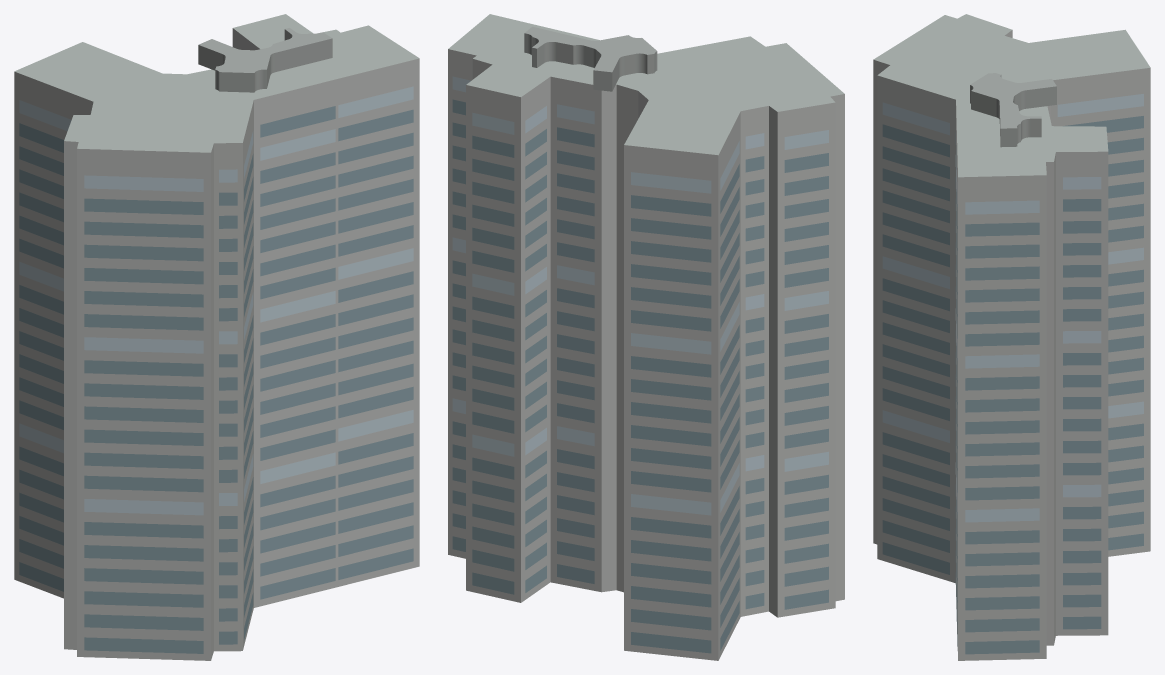
File: fallback-godeok-central-ipark-502.glb
The picture shows the model from 3 angles, left to right: view 1: azimuth 30°, elevation 25°; view 2: azimuth 150°, elevation 25°; view 3: azimuth 270°, elevation 25°; orthographic projection. The views are drawn at different scales.
Parts seen in each view (by area): view 1: fallback-godeok-central-ipark-502; view 2: fallback-godeok-central-ipark-502; view 3: fallback-godeok-central-ipark-502.
Boxes of the visible parts, x1,y1,x2,y2 form: fallback-godeok-central-ipark-502: [14, 14, 419, 660]; fallback-godeok-central-ipark-502: [448, 14, 844, 660]; fallback-godeok-central-ipark-502: [873, 14, 1150, 660].
Bounding box in the file's own units: 45.33 × 65 × 32.55.
